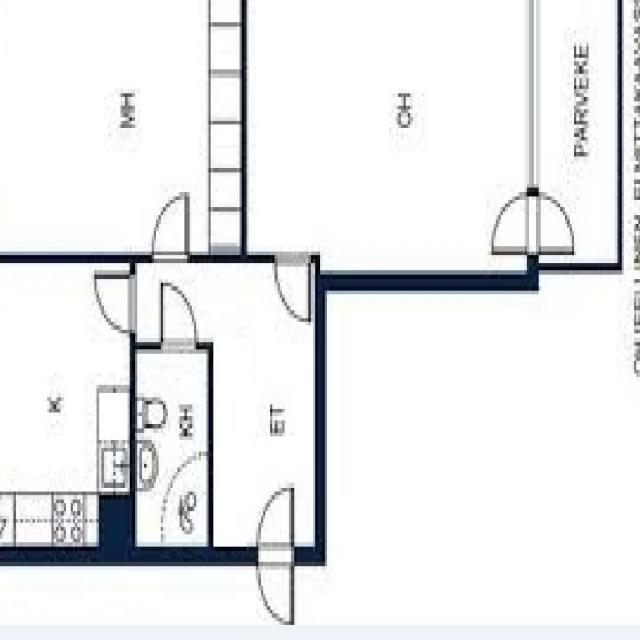door: (257, 486, 293, 564), (492, 194, 539, 253), (257, 547, 293, 623), (529, 194, 575, 253), (152, 196, 187, 260), (95, 276, 134, 332), (275, 254, 309, 318), (162, 286, 194, 348)
